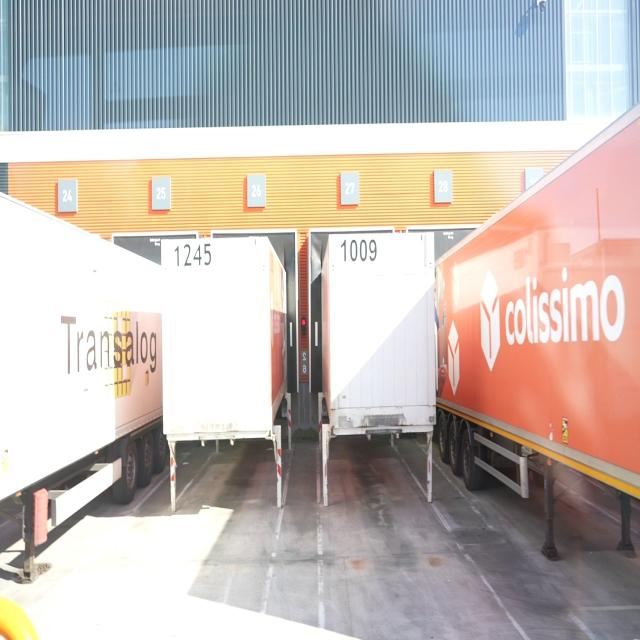Code: (338, 234, 379, 268), (171, 239, 215, 270)
